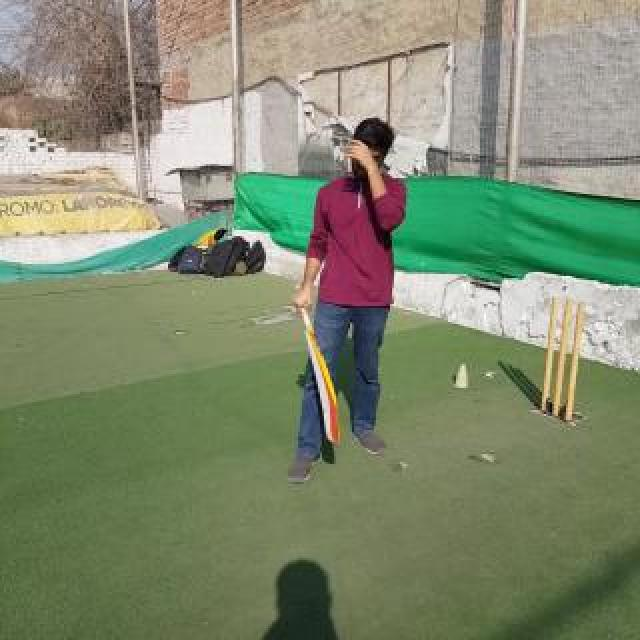bat: (294, 282, 340, 446)
